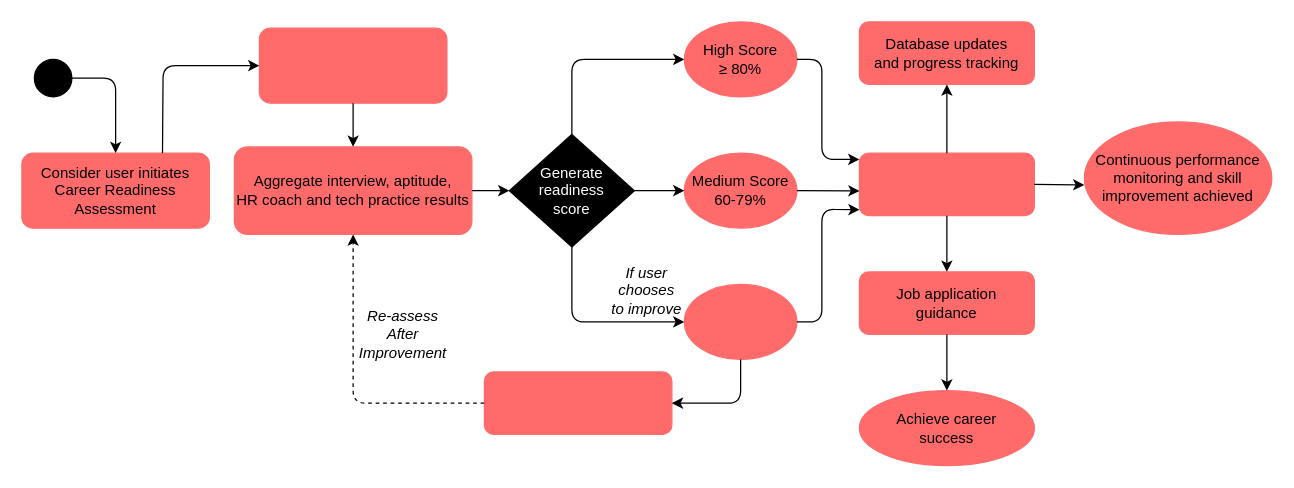
This 1294x488 diagram has some shape labels left out. The centre of each missing label's shape, as x and y in pixels:
Low Score < 60%: (740,321)
Receive placement insights: (946,184)
System analyzes resume and profile data: (352,65)
User studies suggested topics and practice modules: (577,402)
